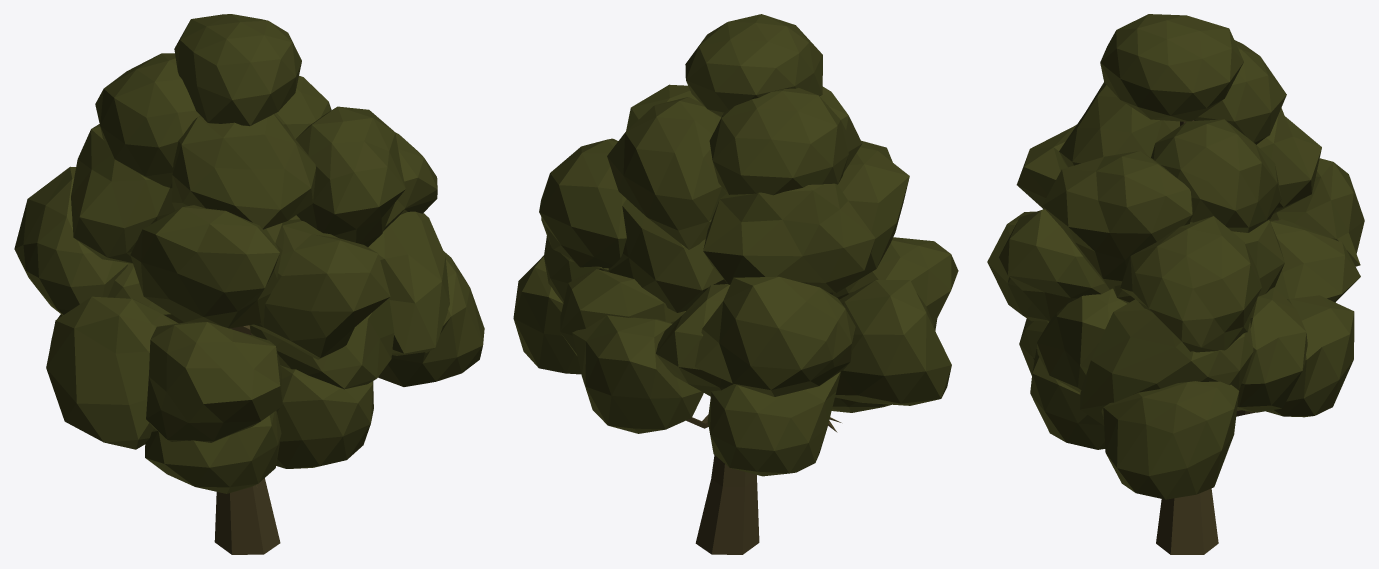
The model's file is tree.fbx.
3 views of the same model, side by side, from view 1: azimuth 30°, elevation 25°; view 2: azimuth 150°, elevation 25°; view 3: azimuth 270°, elevation 25° (orthographic). The views are drawn at different scales.
Visible parts, largest first — view 1: Tree; view 2: Tree; view 3: Tree.
Part boxes in pixels (x1=…): Tree: x1=14, y1=14, x2=484, y2=554; Tree: x1=513, y1=14, x2=958, y2=554; Tree: x1=987, y1=14, x2=1364, y2=554.
Size of the model in its own units: 777 by 941 by 626.
